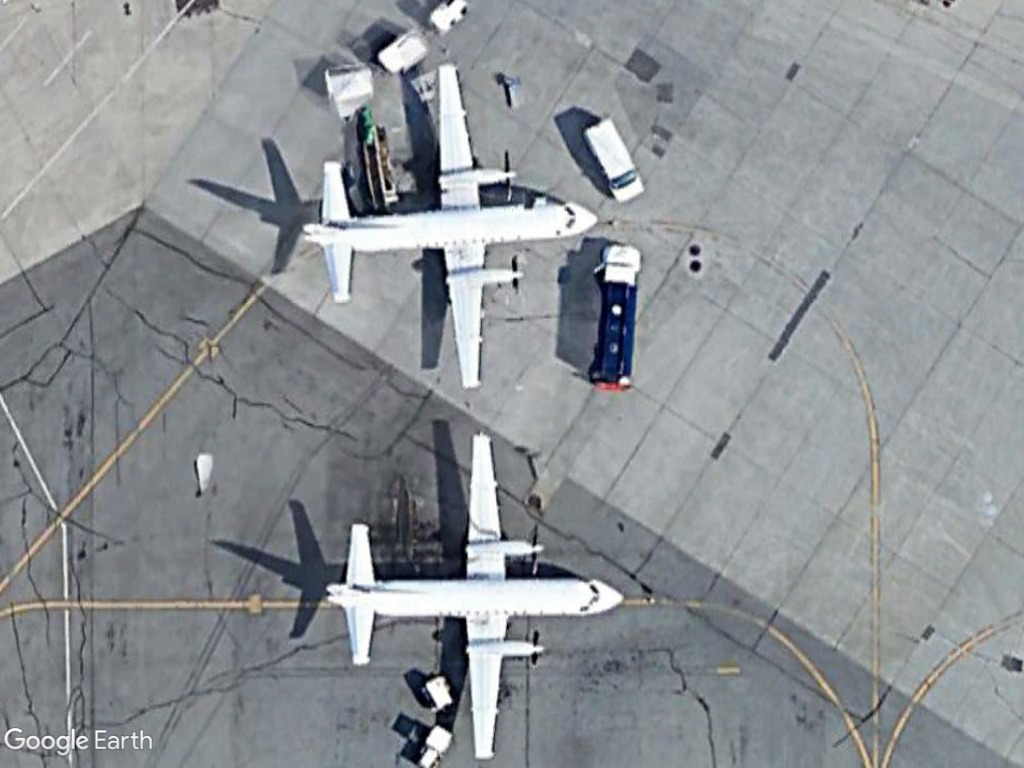propeller: (327, 421, 627, 768), (308, 59, 602, 397)
van: (581, 117, 648, 207)
